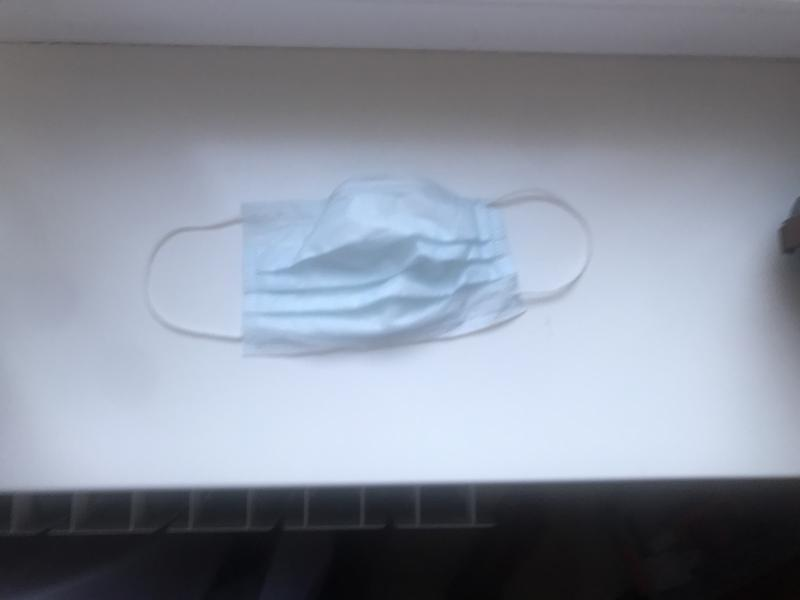medical_mask: (143, 175, 592, 356)
